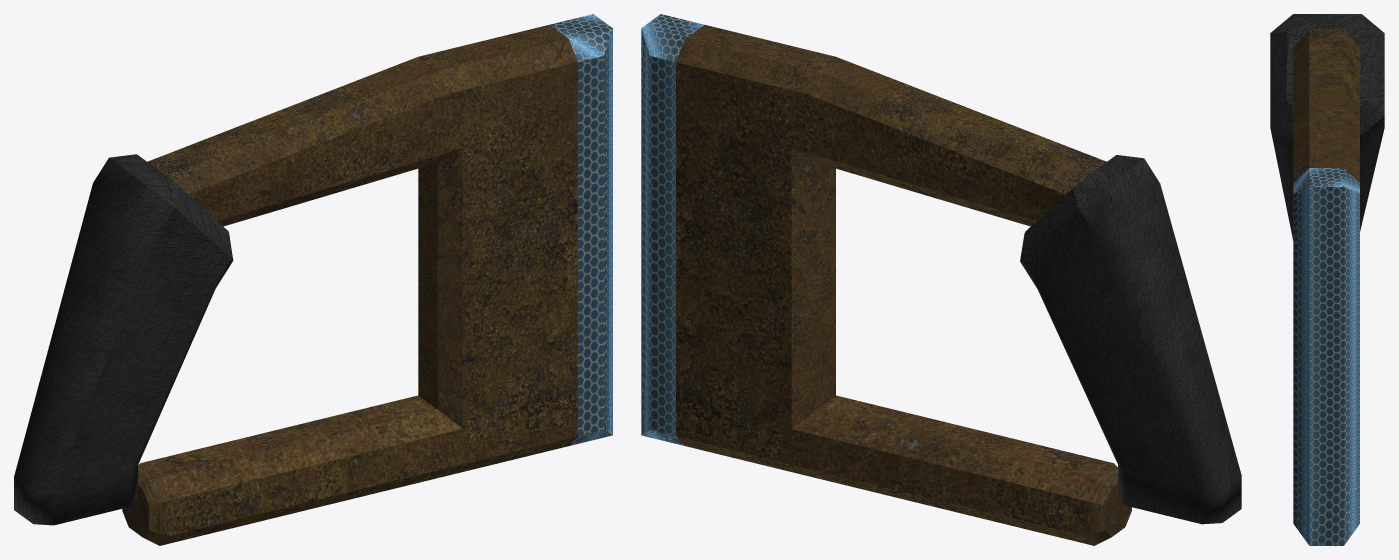
File: flashlight.fbx
3 views of the same model, side by side, from view 1: azimuth 30°, elevation 25°; view 2: azimuth 150°, elevation 25°; view 3: azimuth 270°, elevation 25° (orthographic). The views are drawn at different scales.
Parts seen in each view (by area): view 1: maintorch, grip, lightpart; view 2: maintorch, grip, lightpart; view 3: lightpart, maintorch, grip.
Part boxes in pixels (x1,y1,x2,y2): maintorch: (122,24,577,545); grip: (14,154,233,525); lightpart: (550,14,612,445); maintorch: (676,25,1131,545); grip: (1020,155,1241,524); lightpart: (641,14,704,445); lightpart: (1293,168,1359,545); maintorch: (1293,29,1359,182); grip: (1270,14,1384,240).
Size of the model in its own units: 8.88 by 5.95 by 1.71.
